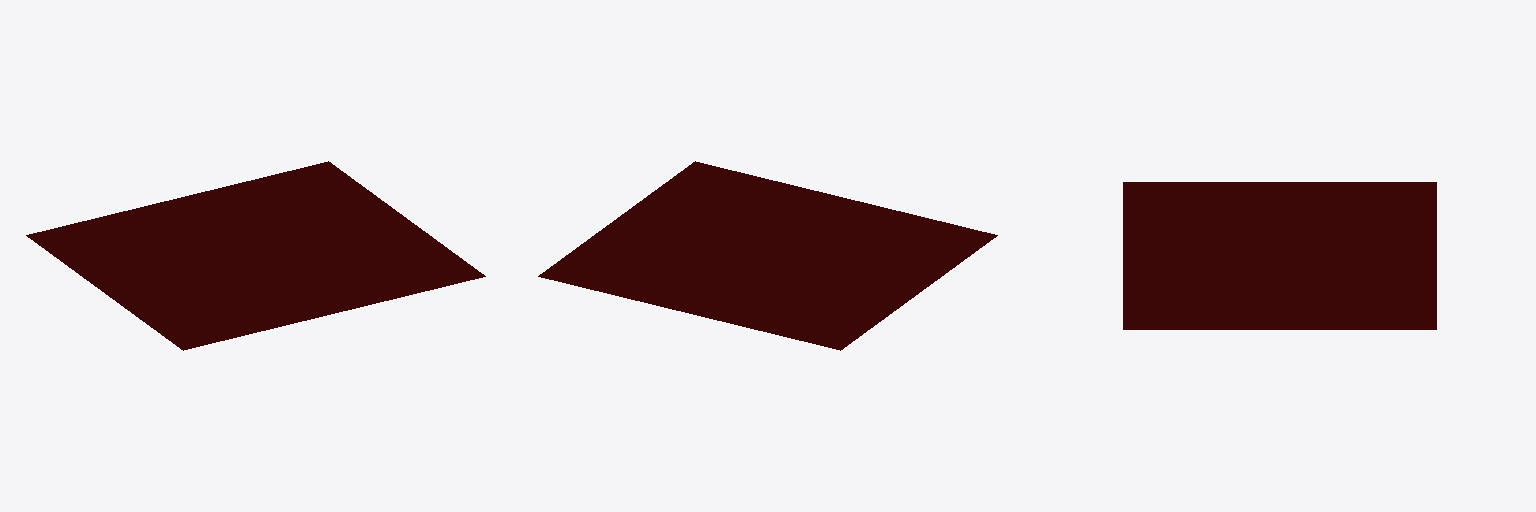
File: level_plain.obj
The picture shows the model from 3 angles: view 1: azimuth 30°, elevation 25°; view 2: azimuth 150°, elevation 25°; view 3: azimuth 270°, elevation 25°; orthographic projection.
Visible parts, largest first — view 1: pPlane1; view 2: pPlane1; view 3: pPlane1.
Boxes of the visible parts, <box> form: pPlane1: <box>26,161,485,350</box>; pPlane1: <box>538,161,997,350</box>; pPlane1: <box>1123,182,1436,329</box>.
Bounding box in the file's own units: 29.68 × 0 × 26.68.